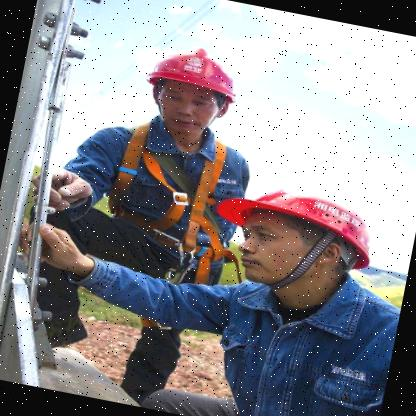capacete: (200, 179, 382, 306), (134, 37, 246, 142)
sem_colete_refletivo: (122, 247, 403, 415), (26, 96, 262, 260)
